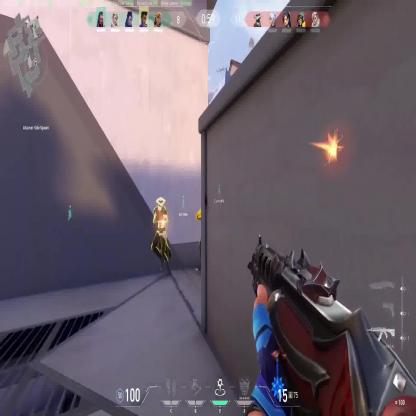enemy: (194, 197, 218, 272), (151, 197, 172, 277)
enemy_head: (155, 197, 166, 210)
